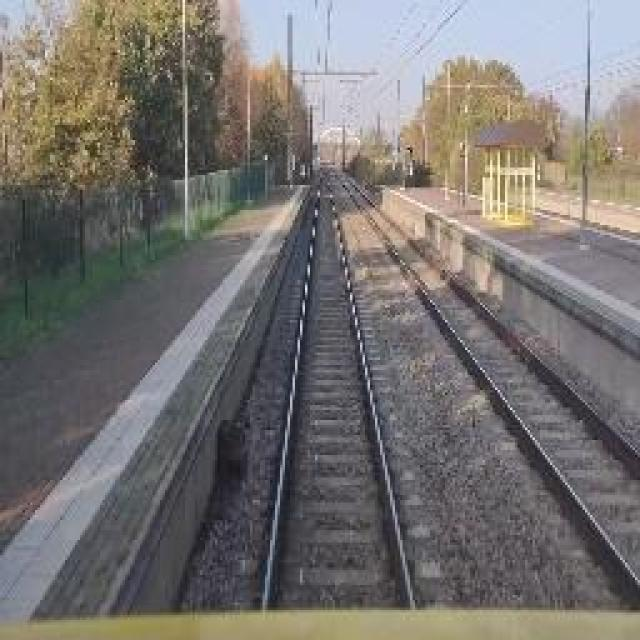rail: (319, 165, 640, 622), (233, 169, 451, 615)
